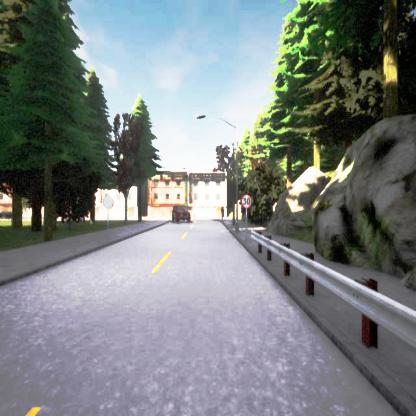vehicle: (172, 207, 191, 224)
